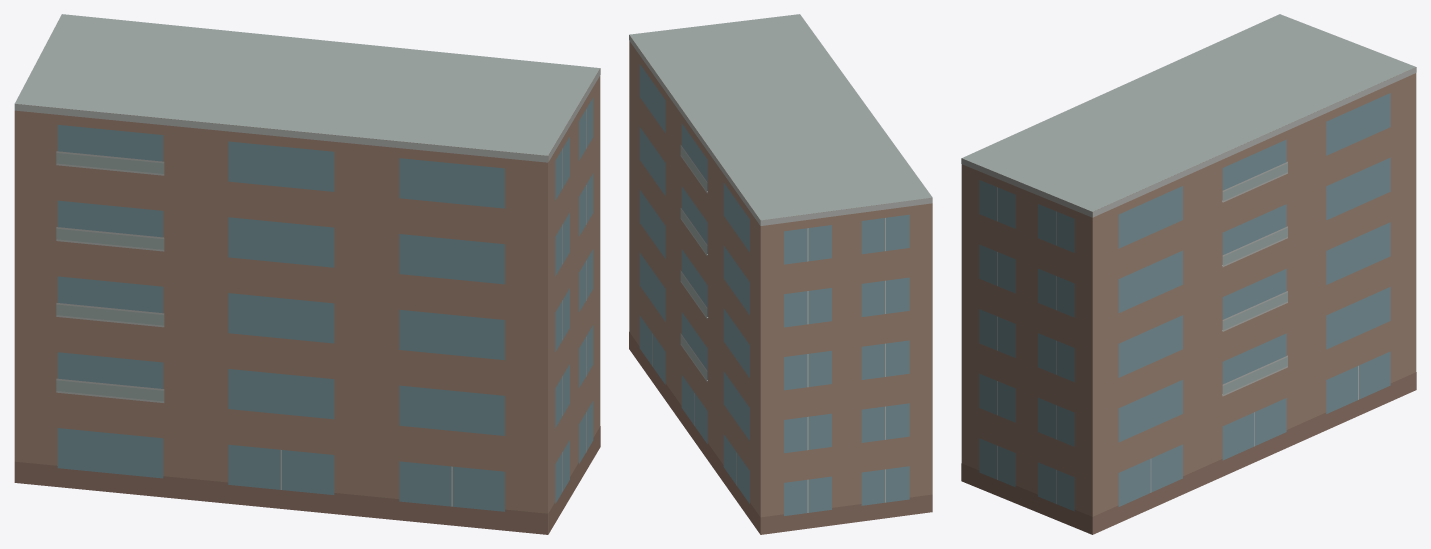
Rendered from survey-upis-32739744.glb.
The picture shows the model from 3 angles, left to right: view 1: azimuth 30°, elevation 25°; view 2: azimuth 150°, elevation 25°; view 3: azimuth 270°, elevation 25°; orthographic projection. The views are drawn at different scales.
Parts seen in each view (by area): view 1: survey-upis-32739744.tmp; view 2: survey-upis-32739744.tmp; view 3: survey-upis-32739744.tmp.
Part boxes in pixels (x1,y1,x2,y2): survey-upis-32739744.tmp: (14,14,600,534); survey-upis-32739744.tmp: (629,14,932,534); survey-upis-32739744.tmp: (961,14,1416,534).
Bounding box in the file's own units: 17.74 × 13.5 × 17.24.
